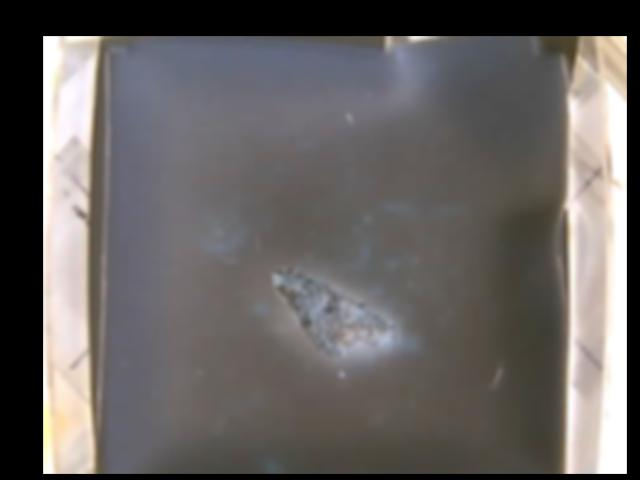Brisk: (272, 265, 385, 354)
